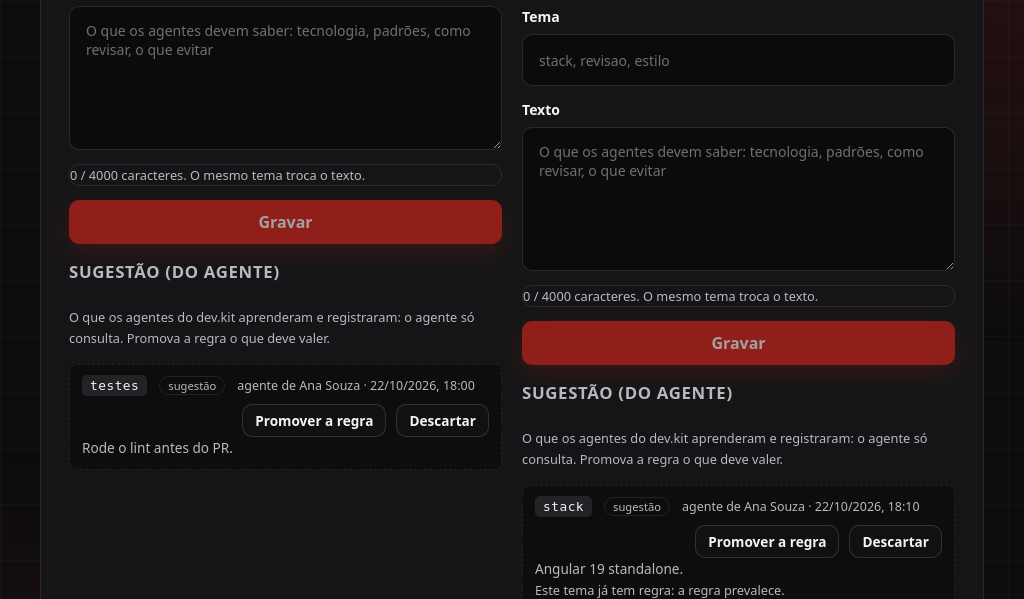
Scenario: Repositórios e convenções da empresa (US #491) › aba Contexto (US #663): o gestor promove a sugestão do agente com a versão lida, e o 409 aparece como conflito
The image size is (1024, 599).
(page scrolled)
Expected: the 1st heading "Sugestão (do agente)" is shown, [69,260,280,283]
Click the button with aria-label "Promover a regra a sugestão testes": (314, 421) [242,404,386,437]
(page scrolled)
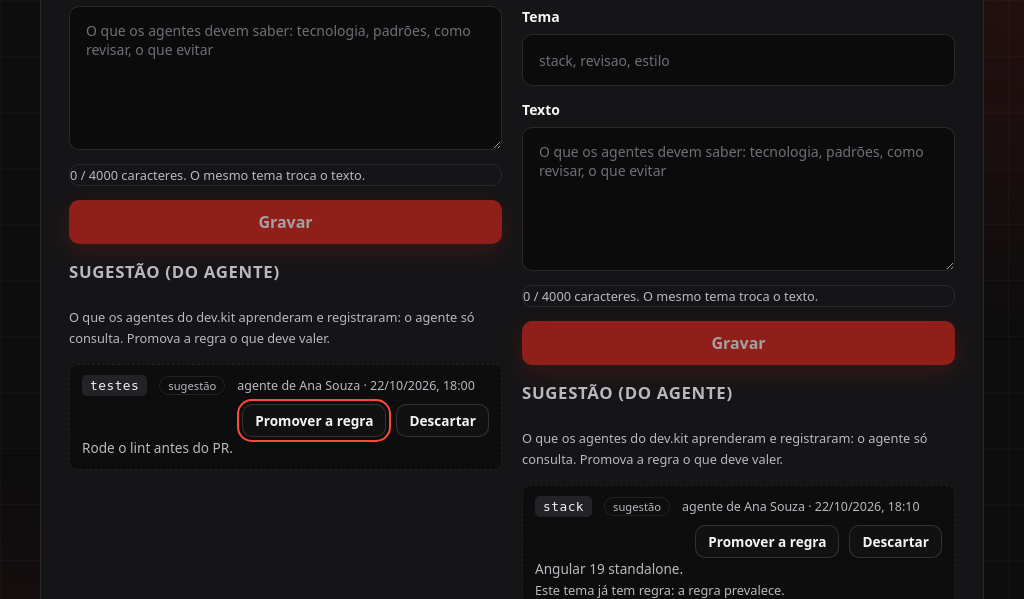
Click the button with aria-label "Promover a regra a sugestão stack": (767, 542) [695,525,840,558]
(page scrolled)
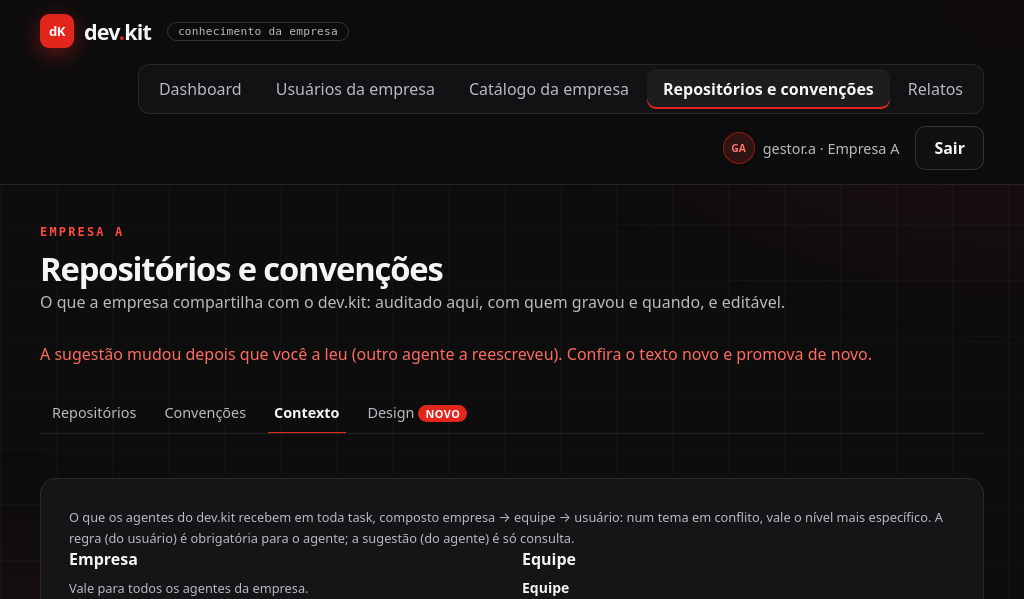
Expected: the message shows "A sugestão mudou depois que você a leu", [40,343,872,365]
